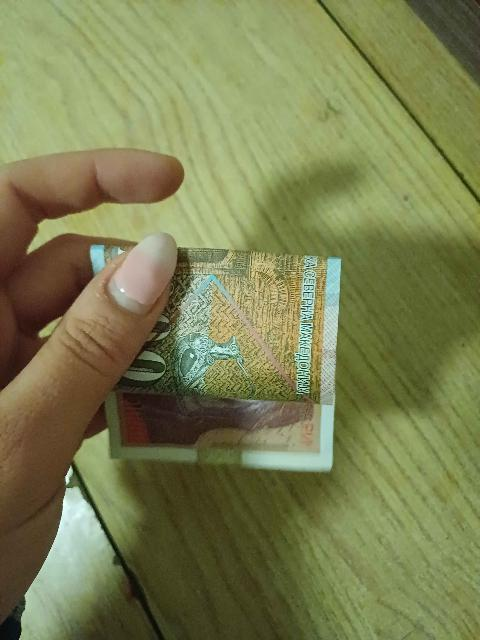1000_note: (108, 242, 337, 472)
